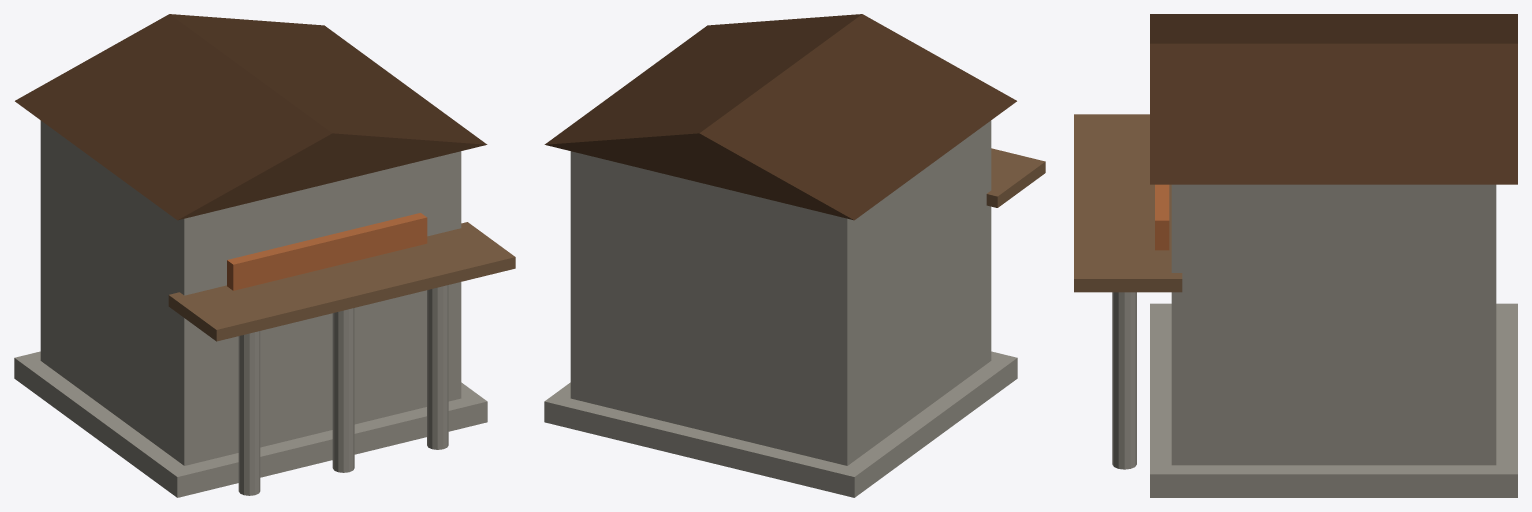
Rendered from bld_commercial_a03.glb.
3 views of the same model, side by side, from view 1: azimuth 30°, elevation 25°; view 2: azimuth 150°, elevation 25°; view 3: azimuth 270°, elevation 25° (orthographic). The views are drawn at different scales.
Parts seen in each view (by area): view 1: body; view 2: body; view 3: body.
Part boxes in pixels (x1,y1,x2,y2): body: (14, 14, 515, 497); body: (544, 14, 1045, 497); body: (1074, 14, 1517, 497).
Size of what is drawn, in the model's own units: 5.6 by 5.64 by 6.15.
